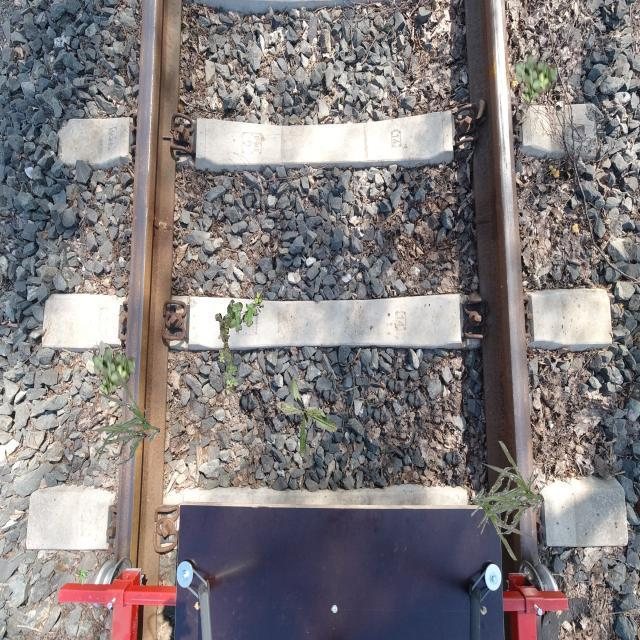Plant: (472, 467, 545, 560), (87, 371, 160, 464), (471, 441, 544, 534), (275, 374, 339, 458), (215, 292, 264, 396), (514, 54, 558, 104), (92, 347, 136, 397), (77, 570, 91, 586)
